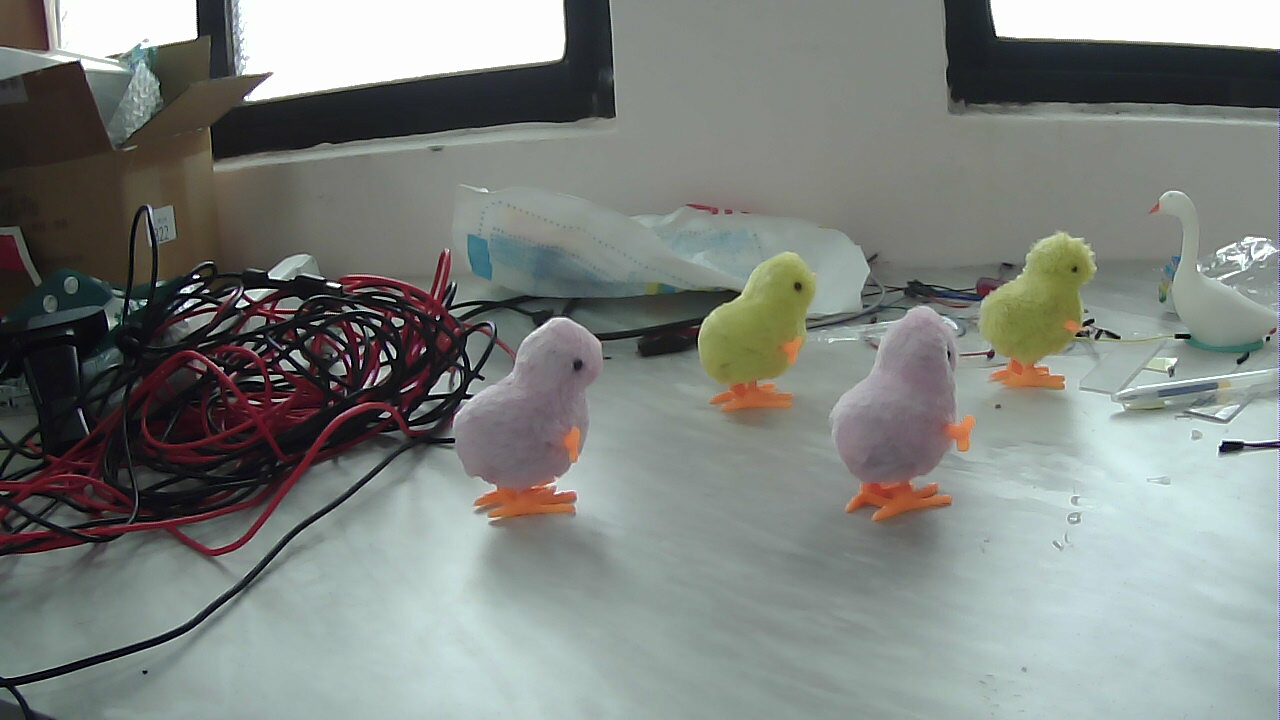pink_chicken: (447, 318, 609, 521), (835, 306, 973, 521)
yellow_chicken: (697, 254, 818, 414), (980, 232, 1098, 389)
